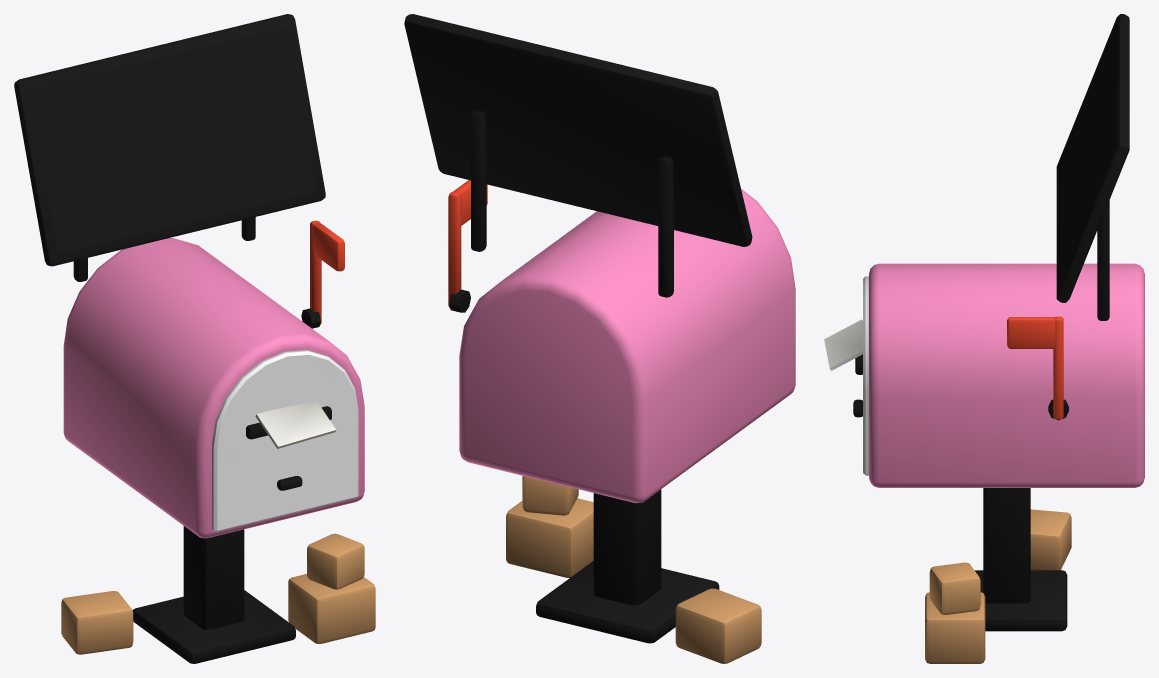
File: tempe-mail.glb
The picture shows the model from 3 angles, left to right: view 1: azimuth 30°, elevation 25°; view 2: azimuth 150°, elevation 25°; view 3: azimuth 270°, elevation 25°; orthographic projection. The views are drawn at different scales.
Parts seen in each view (by area): view 1: tempe-mail, screen, flag; view 2: tempe-mail, flag; view 3: tempe-mail, screen, flag.
Boxes of the visible parts, box(x1,y1,x2,y2) form: tempe-mail: box(14, 14, 375, 663); screen: box(29, 26, 317, 254); flag: box(301, 220, 344, 328); tempe-mail: box(404, 14, 795, 663); flag: box(448, 180, 487, 312); tempe-mail: box(824, 14, 1144, 663); screen: box(1058, 24, 1114, 287); flag: box(1007, 316, 1068, 420).
Size of the model in its own units: 3.66 by 6.77 by 3.72.
